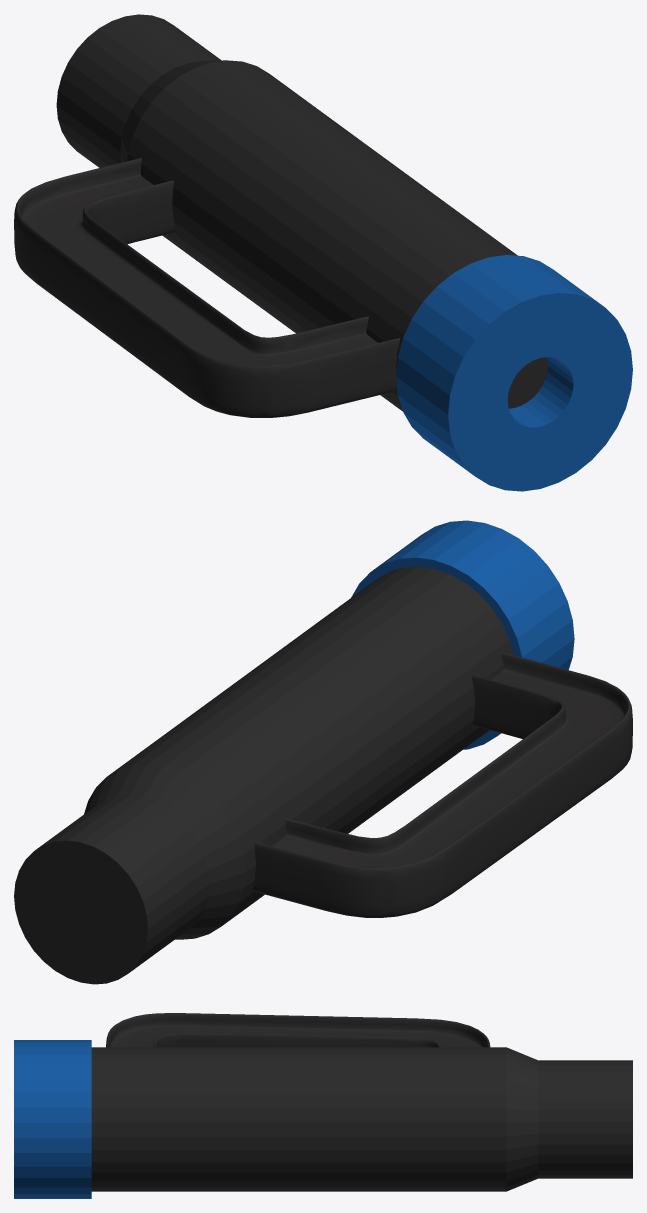
Rendered from disinfector_spary.dae.
3 renders of one model, top to bottom at view 1: azimuth 30°, elevation 25°; view 2: azimuth 150°, elevation 25°; view 3: azimuth 270°, elevation 25°, orthographic. The views are drawn at different scales.
Parts seen in each view (by area): view 1: Body, Handle, Cup; view 2: Body, Handle, Cup; view 3: Body, Cup, Handle.
Part boxes in pixels (<box>): Body: <box>56,14,547,411</box>; Handle: <box>14,157,399,417</box>; Cup: <box>396,255,632,491</box>; Body: <box>14,566,513,984</box>; Handle: <box>252,652,632,917</box>; Cup: <box>351,520,574,749</box>; Body: <box>91,1047,632,1191</box>; Cup: <box>14,1040,91,1198</box>; Handle: <box>106,1013,490,1047</box>.
Size of the model in its own units: 0.1271 by 0.2721 by 0.07.
